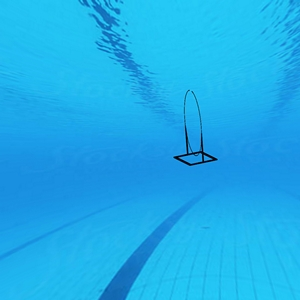circle: (170, 84, 222, 169)
